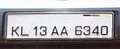0: (100, 24, 108, 36)
1: (32, 25, 39, 37)
3: (38, 24, 47, 36), (82, 25, 91, 36)
4: (91, 25, 100, 36)
6: (73, 24, 83, 36)
A: (59, 25, 69, 37), (50, 25, 60, 36)
K: (10, 25, 20, 37)
L: (19, 25, 29, 37)
